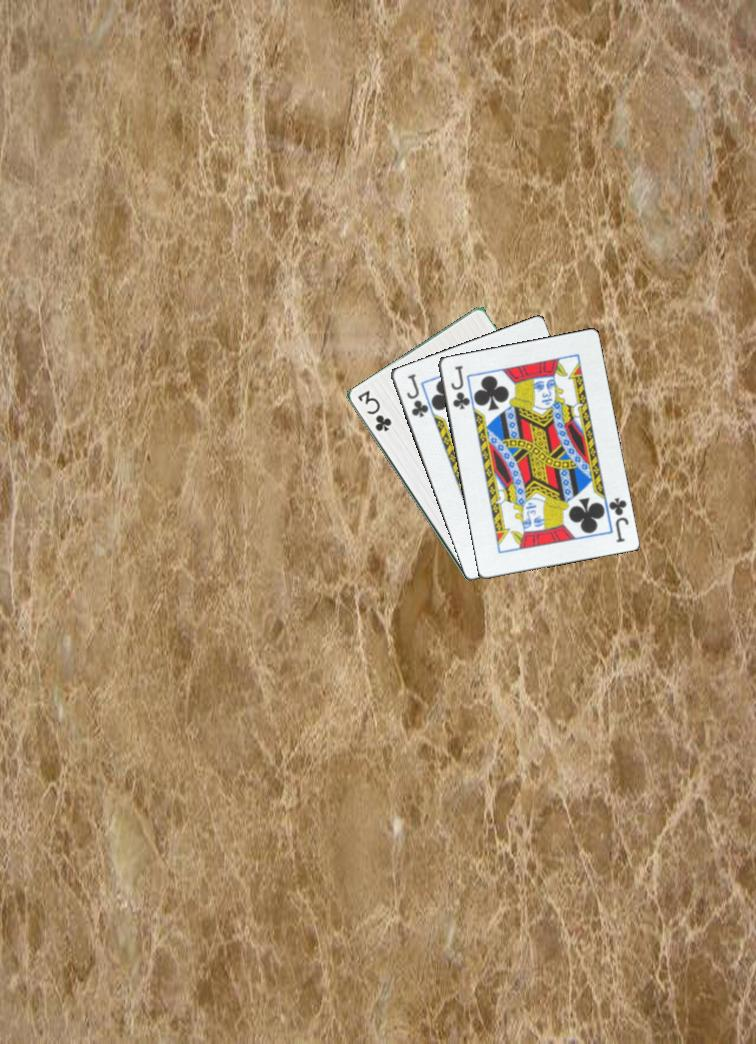3c: (353, 387, 398, 434)
jc: (402, 370, 430, 420), (605, 494, 631, 545), (447, 362, 471, 412)
